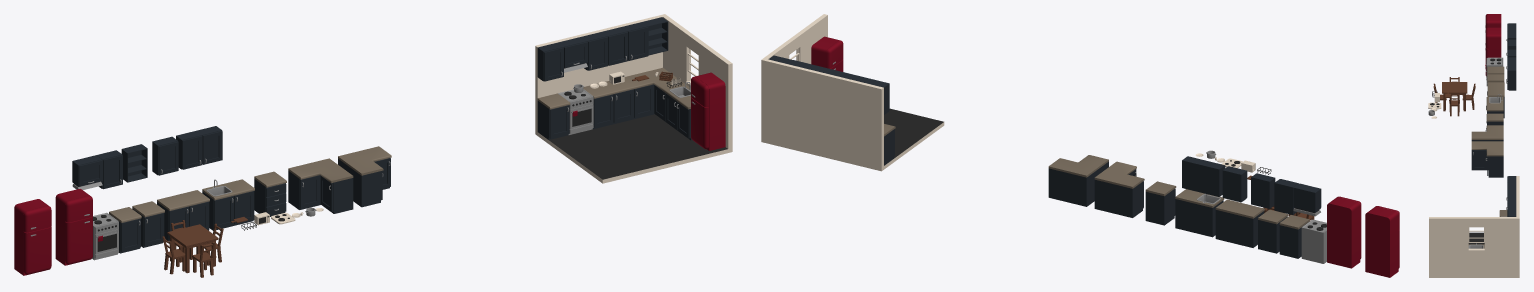
File: uploads_files_834976_kitchen_pack.FBX
3 views of the same model, side by side, from view 1: azimuth 30°, elevation 25°; view 2: azimuth 150°, elevation 25°; view 3: azimuth 270°, elevation 25° (orthographic). The views are drawn at different scales.
Parts seen in each view (by area): view 1: Box032, cornerpiece, sample_arrangement, fridge_l, fridge_l002, cornerpiece1, mod4_wsink003, fridge_r, mod2_r005, mod3, mod7, mod010 (+18 smaller); view 2: Box032, fridge_l, cornerpiece, cornerpiece1, Box033, mod3, mod4_wsink003, mod7, drawer, Object036, mod1, fridge_l002 (+6 smaller); view 3: Box032, cornerpiece1, cornerpiece, Box033, table, mod7, mod3, mod4_wsink003, fridge_l, drawer, Object036, frame (+16 smaller).
Boxes of the visible parts, x1,y1,x2,y2 form: Box032: (535,14,732,183); cornerpiece: (288,158,353,213); sample_arrangement: (558,67,686,134); fridge_l: (14,199,51,275); fridge_l002: (691,72,725,150); cornerpiece1: (338,146,391,207); mod4_wsink003: (202,179,254,230); fridge_r: (65,195,92,264); mod2_r005: (583,80,634,129); mod3: (157,190,209,241); mod7: (176,126,222,169); mod010: (602,22,648,65); Box032: (761,14,944,171); fridge_l: (1365,206,1399,277); cornerpiece: (1094,161,1144,217); cornerpiece1: (1048,155,1108,206); Box033: (1327,197,1360,268); mod3: (1215,199,1264,247); mod4_wsink003: (1175,189,1224,237); mod7: (1182,156,1225,196); drawer: (1145,181,1176,225); Object036: (1301,219,1326,263); mod1: (1279,215,1309,258); fridge_l002: (811,36,843,71); Box032: (1429,176,1519,277); cornerpiece1: (1471,141,1503,177); cornerpiece: (1471,125,1503,141); Box033: (1488,27,1501,57); table: (1442,82,1467,111); mod7: (1506,57,1516,90); mod3: (1487,82,1504,118); mod4_wsink003: (1486,96,1503,113); fridge_l: (1485,14,1501,32); drawer: (1486,113,1503,129); Object036: (1485,57,1503,86); frame: (1468,227,1484,250).
Size of the model in its own units: 779 by 100 by 138.
1 material, 1 textured.
